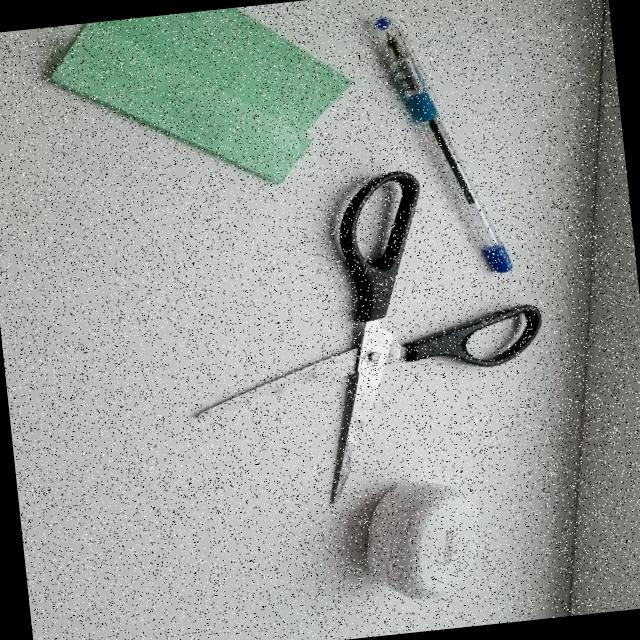scissors: (125, 130, 560, 526)
